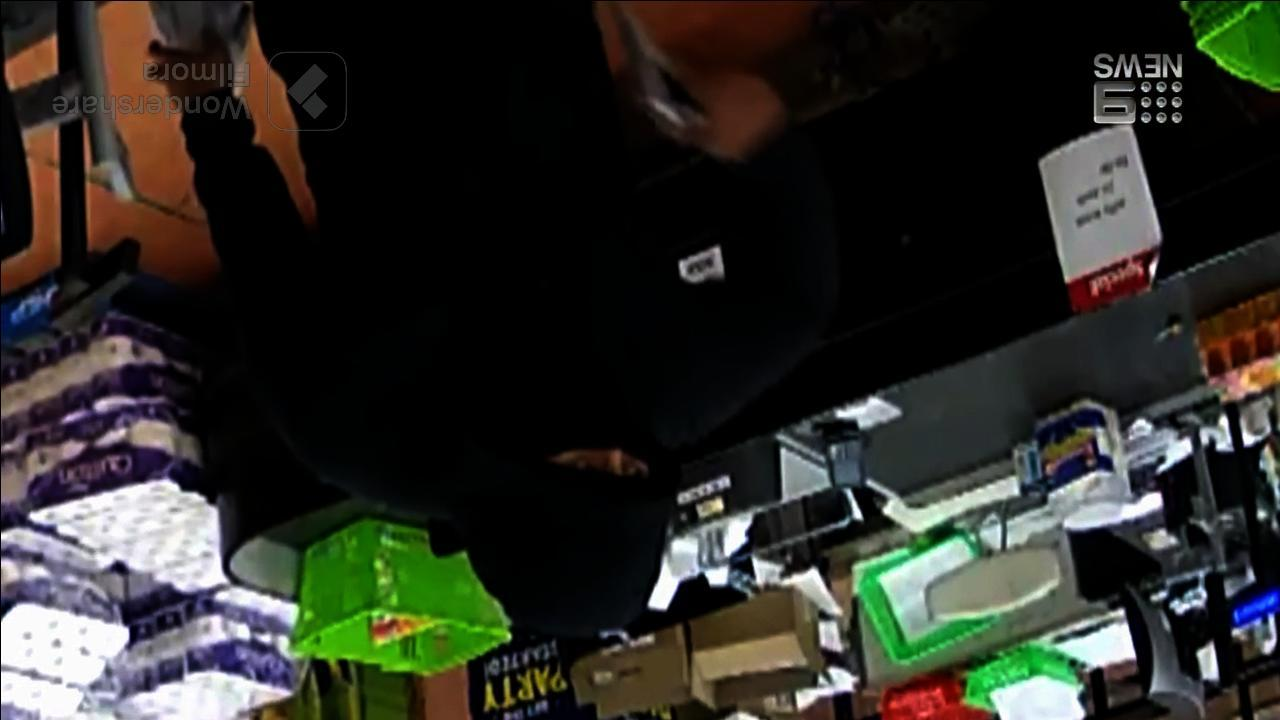gun: (597, 5, 709, 150)
